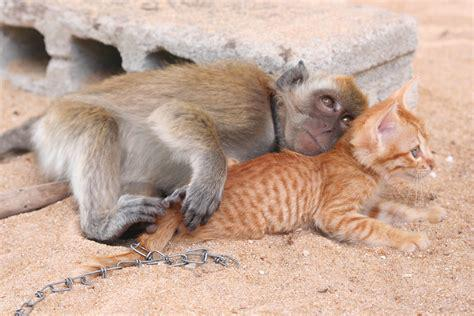cat: (137, 85, 445, 251)
monkey: (1, 60, 367, 242)
